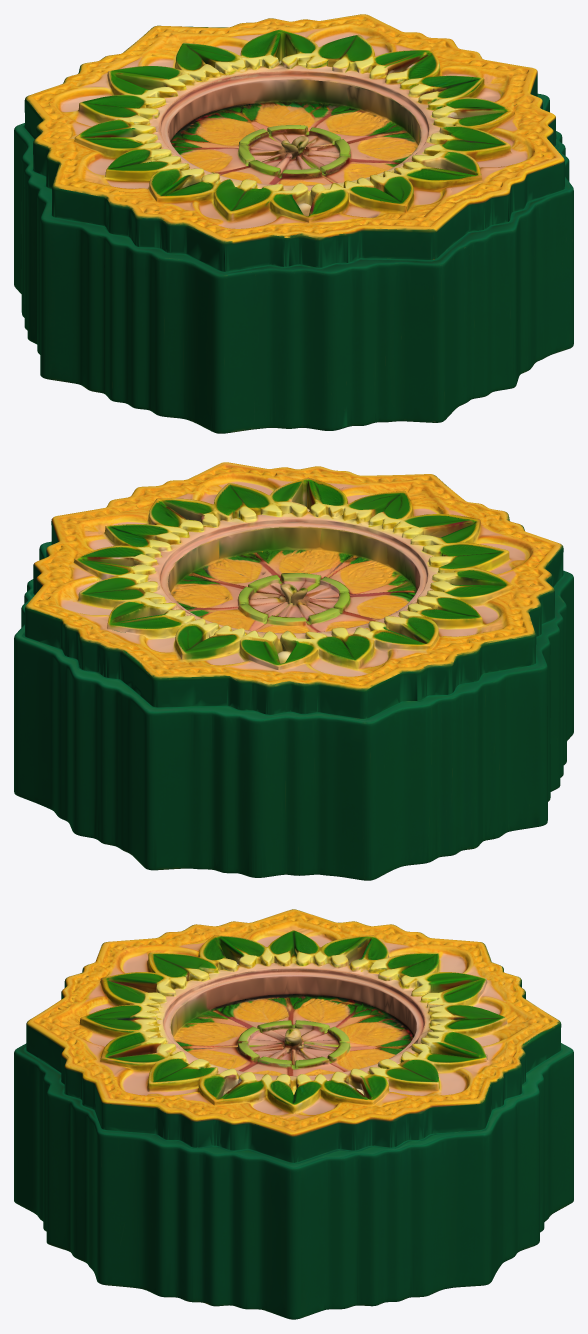
Rendered from award-04.glb.
3 views of the same model, one above another, from view 1: azimuth 30°, elevation 25°; view 2: azimuth 150°, elevation 25°; view 3: azimuth 270°, elevation 25° (orthographic). The views are drawn at different scales.
Visible parts, largest first — view 1: node_0; view 2: node_0; view 3: node_0.
Boxes of the visible parts, x1,y1,x2,y2 form: node_0: [14, 14, 573, 433]; node_0: [14, 462, 573, 880]; node_0: [14, 909, 573, 1319].
Size of the model in its own units: 1.13 by 0.41 by 1.13.
1 material, 1 textured.
